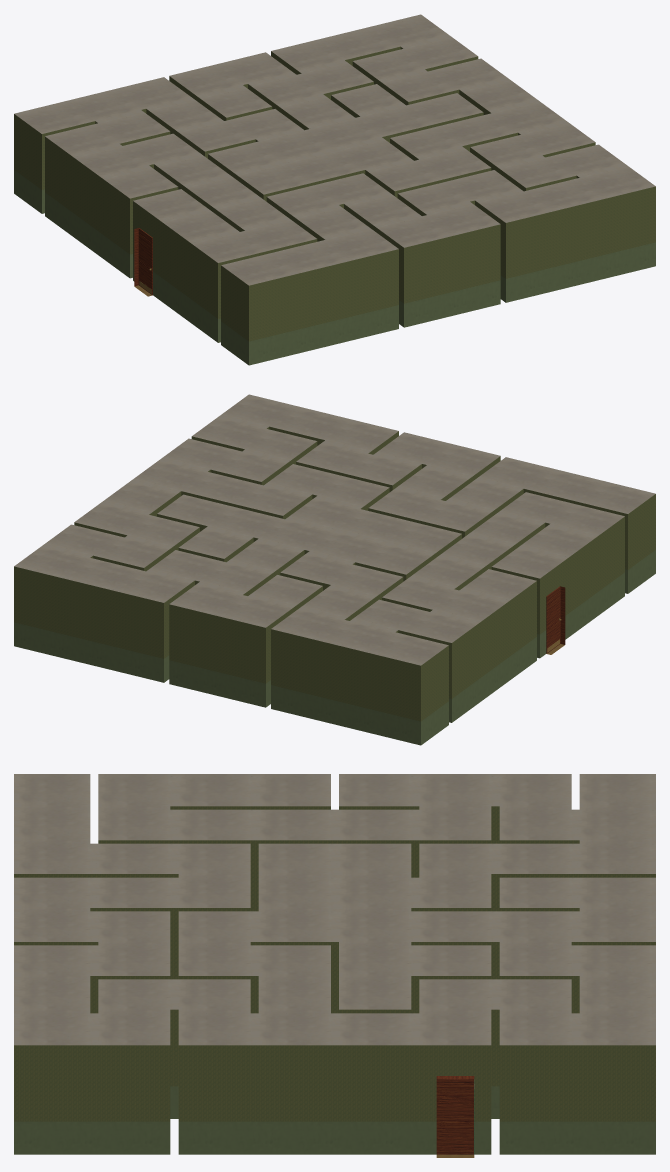
Rendered from maze_03.glb.
The picture shows the model from 3 angles, top to bottom: view 1: azimuth 30°, elevation 25°; view 2: azimuth 150°, elevation 25°; view 3: azimuth 270°, elevation 25°; orthographic projection. The views are drawn at different scales.
Visible parts, largest first — view 1: Skin_Ceiling_Plaster.001, Skin_Paper_Repeat.001, Skin_Dado_Paint.001, DoorLeaf_entry; view 2: Skin_Ceiling_Plaster.001, Skin_Paper_Repeat.001, Skin_Dado_Paint.001, DoorLeaf_entry; view 3: Skin_Ceiling_Plaster.001, Skin_Paper_Repeat.001, Skin_Dado_Paint.001, DoorLeaf_way_on.
Boxes of the visible parts, x1=… form: Skin_Ceiling_Plaster.001: x1=14, y1=14, x2=655, y2=285; Skin_Paper_Repeat.001: x1=14, y1=46, x2=655, y2=341; Skin_Dado_Paint.001: x1=14, y1=170, x2=655, y2=365; DoorLeaf_entry: x1=138, y1=228, x2=152, y2=295; Skin_Ceiling_Plaster.001: x1=14, y1=394, x2=655, y2=665; Skin_Paper_Repeat.001: x1=14, y1=426, x2=655, y2=721; Skin_Dado_Paint.001: x1=14, y1=550, x2=655, y2=745; DoorLeaf_entry: x1=546, y1=586, x2=561, y2=653; Skin_Ceiling_Plaster.001: x1=14, y1=774, x2=655, y2=1045; Skin_Paper_Repeat.001: x1=14, y1=806, x2=655, y2=1121; Skin_Dado_Paint.001: x1=14, y1=1079, x2=655, y2=1154; DoorLeaf_way_on: x1=436, y1=1079, x2=473, y2=1154.
Bounding box in the file's own units: 16.4 × 3 × 16.
Materials: 18 (13 with a texture image).
